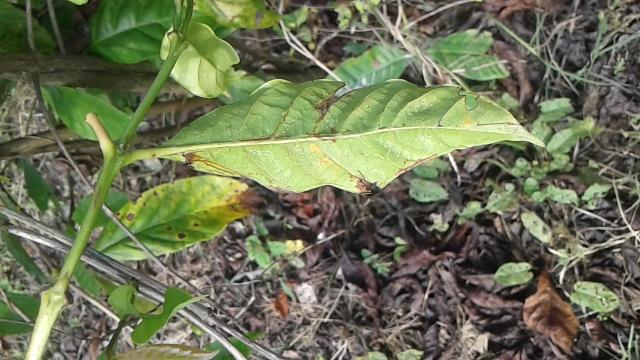rust_level_1: (162, 78, 546, 194)
